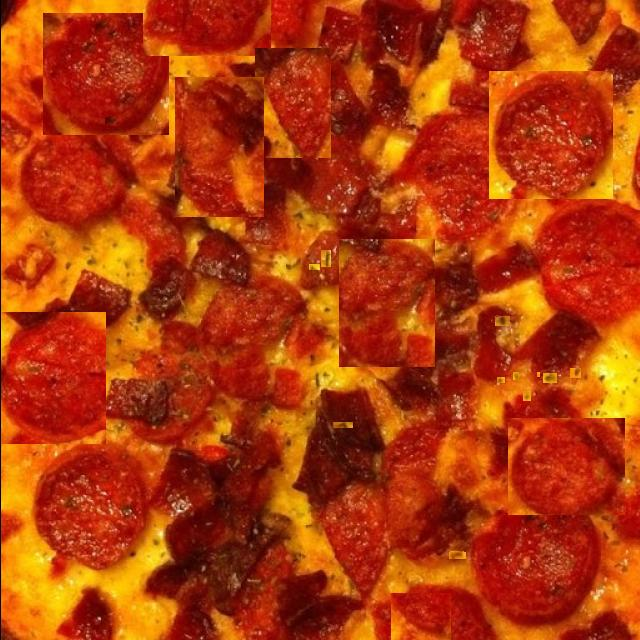basil: (78, 42, 94, 54), (340, 370, 355, 382), (320, 250, 330, 267), (494, 316, 509, 326), (542, 373, 556, 383), (79, 104, 100, 110), (446, 552, 464, 559), (332, 422, 352, 428), (449, 551, 463, 559), (569, 368, 580, 378), (104, 116, 115, 126), (547, 388, 562, 395), (522, 391, 530, 401), (308, 264, 319, 270), (518, 295, 528, 300), (512, 372, 518, 380), (496, 377, 504, 383), (468, 567, 476, 570), (534, 372, 538, 377)
pepperoni: (113, 389, 245, 532), (488, 71, 612, 199), (41, 13, 168, 135), (0, 312, 105, 444), (174, 77, 263, 217), (338, 239, 434, 367), (22, 146, 140, 243), (507, 418, 624, 515), (254, 48, 330, 158), (422, 199, 514, 285), (142, 0, 270, 56), (452, 363, 519, 449), (350, 2, 408, 96), (390, 593, 450, 640), (336, 578, 380, 640)
pizza: (0, 0, 640, 640)
